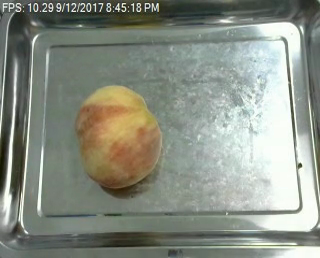Peach: (75, 85, 162, 189)
